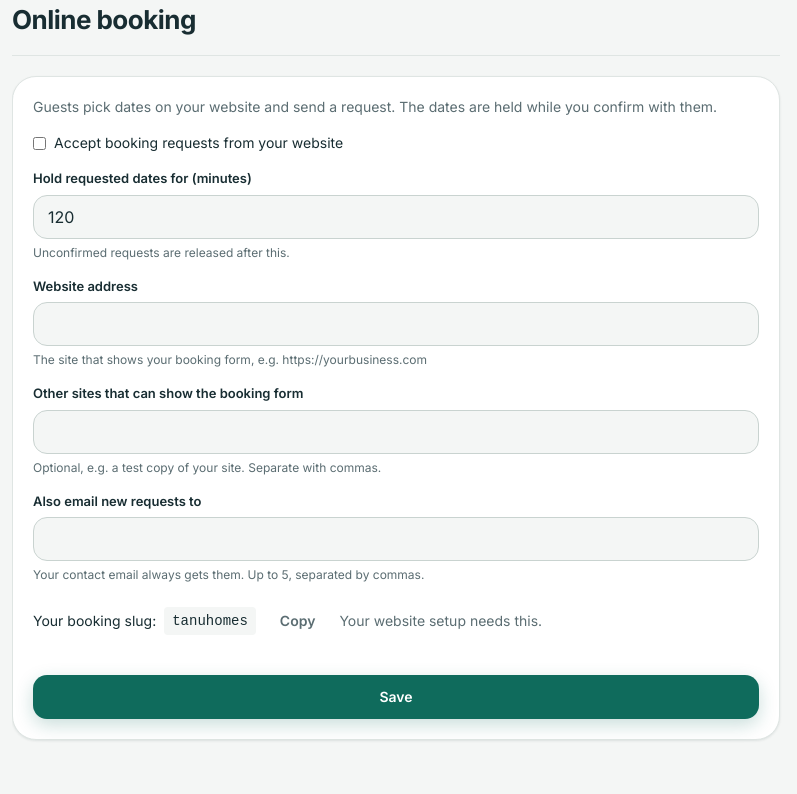
OnlineBooking › shows the server error when saving fails
Click the button "Save" at (396, 697), box [33,675,759,719]
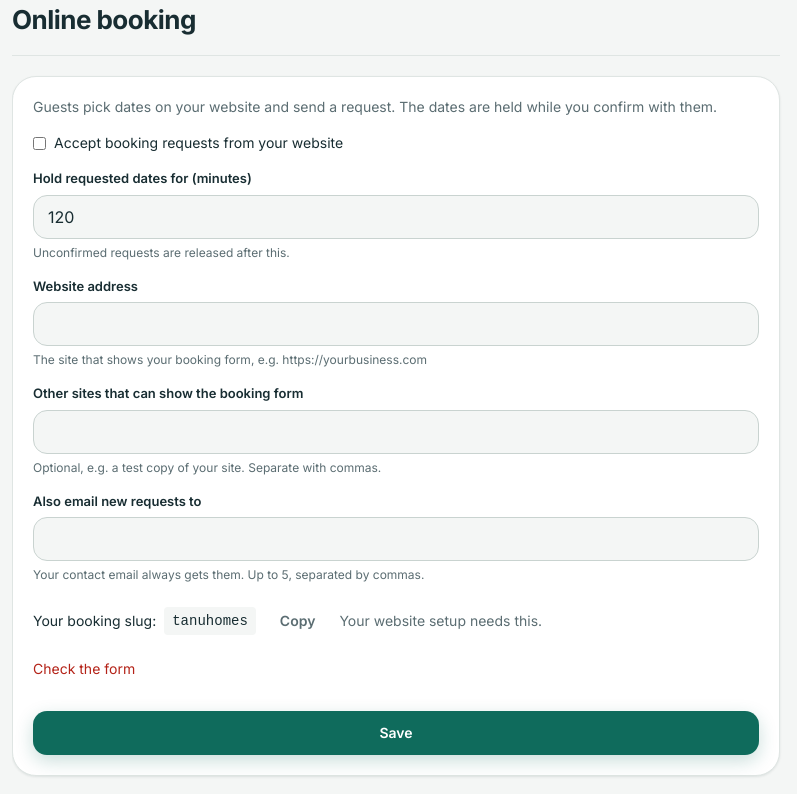
Expected: the message reads "Check the form", [33,660,135,677]
